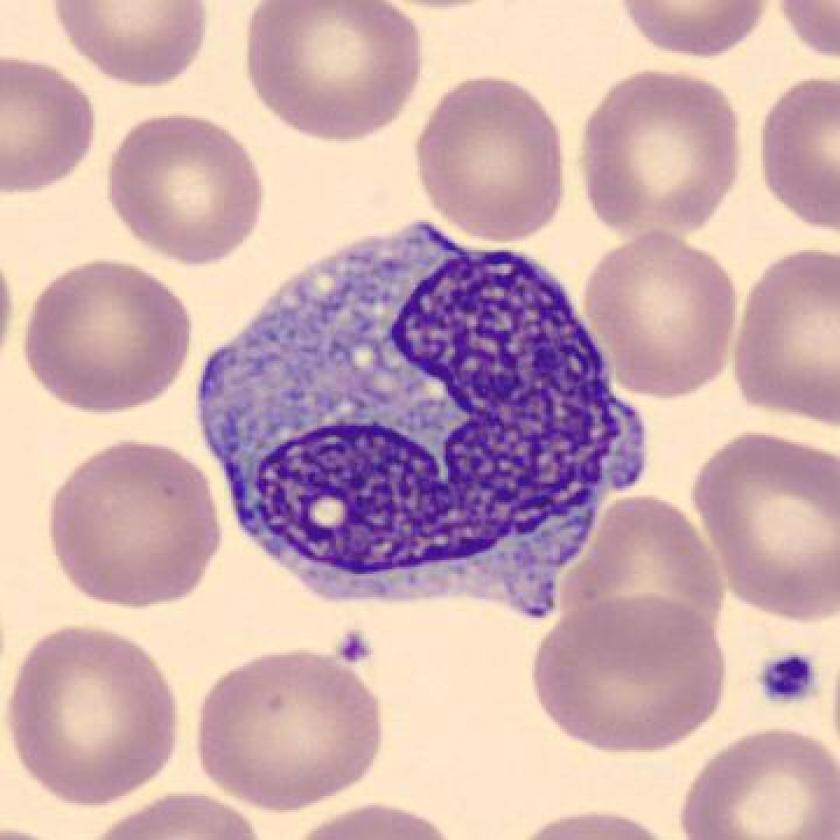monocyte: (176, 195, 680, 640)
